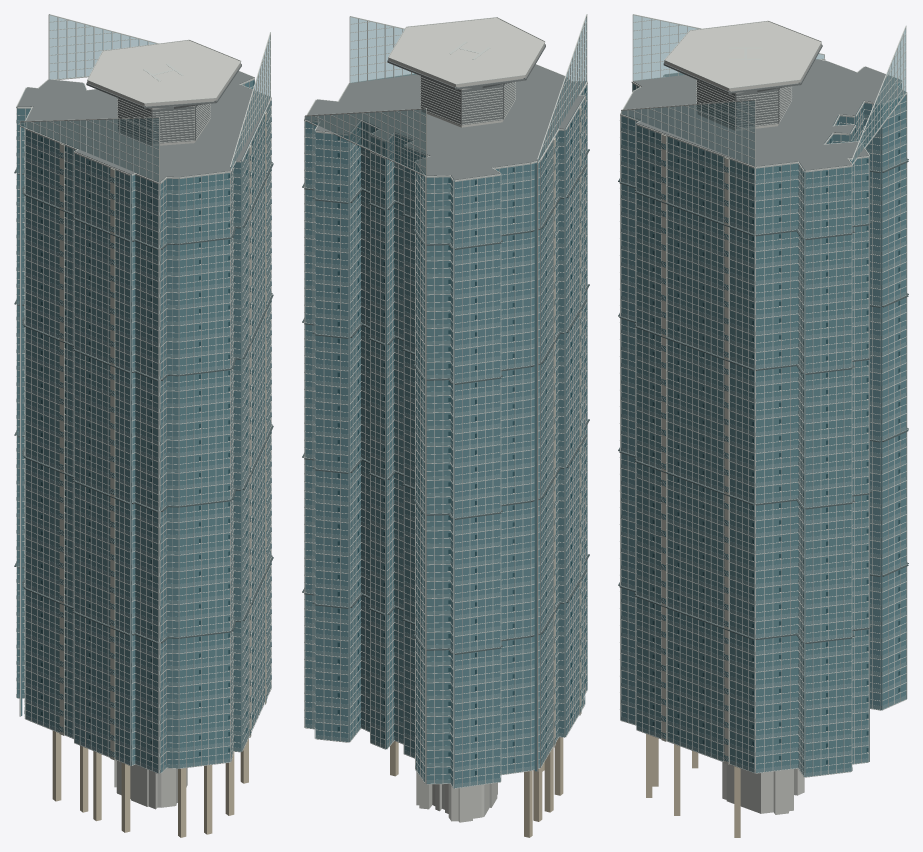
Rendered from bespoke-mecenatpolis-101.glb.
3 views of the same model, side by side, from view 1: azimuth 30°, elevation 25°; view 2: azimuth 150°, elevation 25°; view 3: azimuth 270°, elevation 25° (orthographic). The views are drawn at different scales.
Visible parts, largest first — view 1: 101_actual_glass_service_stacks001, 101_actual_glass_service_stacks001_2, 101_actual_glass_service_stacks001_1, 101_three_oblique_glass_screens_and_hex_roof001_3, 101_three_oblique_glass_screens_and_hex_roof001_1, 101_actual_glass_service_stacks001_4, 101_three_oblique_glass_screens_and_hex_roof001_2, 101_three_oblique_glass_screens_and_hex_roof001, 101_actual_glass_service_stacks001_3, 101_entry_columns, 101_actual_glass_service_stacks001_5, 101_traced_angular_floorplate001_1 (+1 smaller); view 2: 101_actual_glass_service_stacks001, 101_actual_glass_service_stacks001_2, 101_actual_glass_service_stacks001_1, 101_three_oblique_glass_screens_and_hex_roof001_3, 101_three_oblique_glass_screens_and_hex_roof001_1, 101_three_oblique_glass_screens_and_hex_roof001_2, 101_three_oblique_glass_screens_and_hex_roof001, 101_actual_glass_service_stacks001_3, 101_actual_glass_service_stacks001_5, 101_actual_glass_service_stacks001_4, 101_entry_columns, 101_traced_angular_floorplate001_1 (+1 smaller); view 3: 101_actual_glass_service_stacks001, 101_actual_glass_service_stacks001_2, 101_actual_glass_service_stacks001_1, 101_three_oblique_glass_screens_and_hex_roof001_3, 101_three_oblique_glass_screens_and_hex_roof001_1, 101_three_oblique_glass_screens_and_hex_roof001_2, 101_three_oblique_glass_screens_and_hex_roof001, 101_actual_glass_service_stacks001_3, 101_actual_glass_service_stacks001_4, 101_traced_angular_floorplate001_1, 101_actual_glass_service_stacks001_5, 101_entry_columns.
Boxes of the visible parts, x1,y1,x2,y2 form: 101_actual_glass_service_stacks001: (17,80,270,773); 101_actual_glass_service_stacks001_2: (16,79,271,774); 101_actual_glass_service_stacks001_1: (16,110,271,772); 101_three_oblique_glass_screens_and_hex_roof001_3: (17,64,269,182); 101_three_oblique_glass_screens_and_hex_roof001_1: (20,15,270,181); 101_actual_glass_service_stacks001_4: (59,111,266,760); 101_three_oblique_glass_screens_and_hex_roof001_2: (87,40,240,145); 101_three_oblique_glass_screens_and_hex_roof001: (16,14,271,184); 101_actual_glass_service_stacks001_3: (41,81,271,761); 101_entry_columns: (52,731,248,837); 101_actual_glass_service_stacks001_5: (14,162,273,643); 101_traced_angular_floorplate001_1: (114,760,187,809); 101_actual_glass_service_stacks001: (305,85,587,788); 101_actual_glass_service_stacks001_2: (304,83,587,788); 101_actual_glass_service_stacks001_1: (305,95,587,787); 101_three_oblique_glass_screens_and_hex_roof001_3: (305,44,586,180); 101_three_oblique_glass_screens_and_hex_roof001_1: (305,17,586,175); 101_three_oblique_glass_screens_and_hex_roof001_2: (388,18,544,127); 101_three_oblique_glass_screens_and_hex_roof001: (304,14,587,181); 101_actual_glass_service_stacks001_3: (315,88,585,775); 101_actual_glass_service_stacks001_5: (302,149,589,654); 101_actual_glass_service_stacks001_4: (553,106,581,747); 101_entry_columns: (390,737,563,837); 101_traced_angular_floorplate001_1: (416,772,497,822); 101_actual_glass_service_stacks001: (621,60,906,776); 101_actual_glass_service_stacks001_2: (619,59,907,777); 101_actual_glass_service_stacks001_1: (621,106,906,776); 101_three_oblique_glass_screens_and_hex_roof001_3: (621,44,905,170); 101_three_oblique_glass_screens_and_hex_roof001_1: (621,15,905,165); 101_three_oblique_glass_screens_and_hex_roof001_2: (664,21,821,130); 101_three_oblique_glass_screens_and_hex_roof001: (620,14,907,172); 101_actual_glass_service_stacks001_3: (652,99,900,766); 101_actual_glass_service_stacks001_4: (661,134,729,764); 101_traced_angular_floorplate001_1: (722,762,804,814); 101_actual_glass_service_stacks001_5: (618,158,908,643); 101_entry_columns: (646,734,740,837).
Size of the model in its own units: 44.53 by 137 by 48.01.
